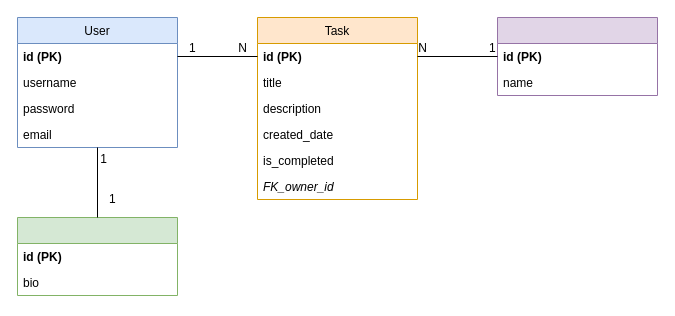
Some shapes in this 675 by 316 pixel diagram are drawn without their labels. The shapes that lost their labels are listed below. From the top down, each one's box as (x1, y1, x2, y2) in pixels, then its label:
(496, 16, 658, 96): Category
(16, 216, 178, 296): Profile
